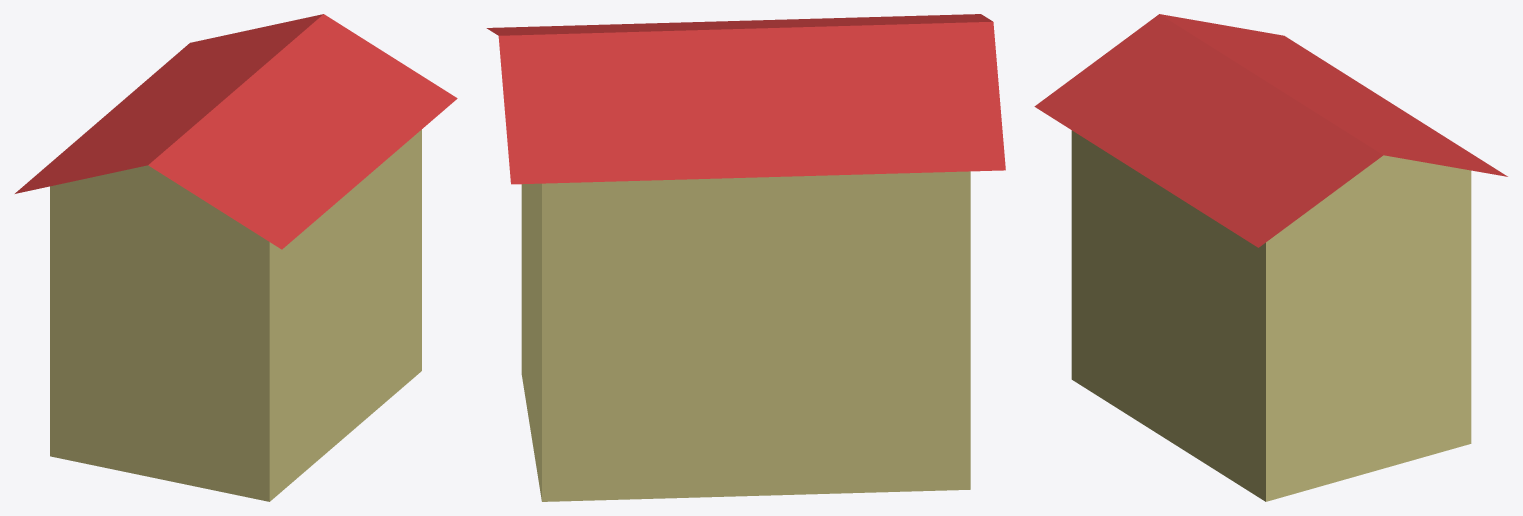
The picture shows the model from 3 angles, left to right: view 1: azimuth 30°, elevation 25°; view 2: azimuth 150°, elevation 25°; view 3: azimuth 270°, elevation 25°; orthographic projection. The views are drawn at different scales.
Parts seen in each view (by area): view 1: group_5, group_3, group_4; view 2: group_5, group_3, group_4; view 3: group_5, group_3, group_4.
Boxes of the visible parts, <box> form: group_5: <box>50,129,421,501</box>; group_3: <box>15,14,457,249</box>; group_4: <box>100,14,346,168</box>; group_5: <box>521,171,970,501</box>; group_3: <box>486,14,1005,184</box>; group_4: <box>502,21,1002,184</box>; group_5: <box>1071,130,1471,501</box>; group_3: <box>1034,14,1507,247</box>; group_4: <box>1160,14,1382,169</box>.
Bounding box in the file's own units: 13.96 × 13.19 × 10.03.
